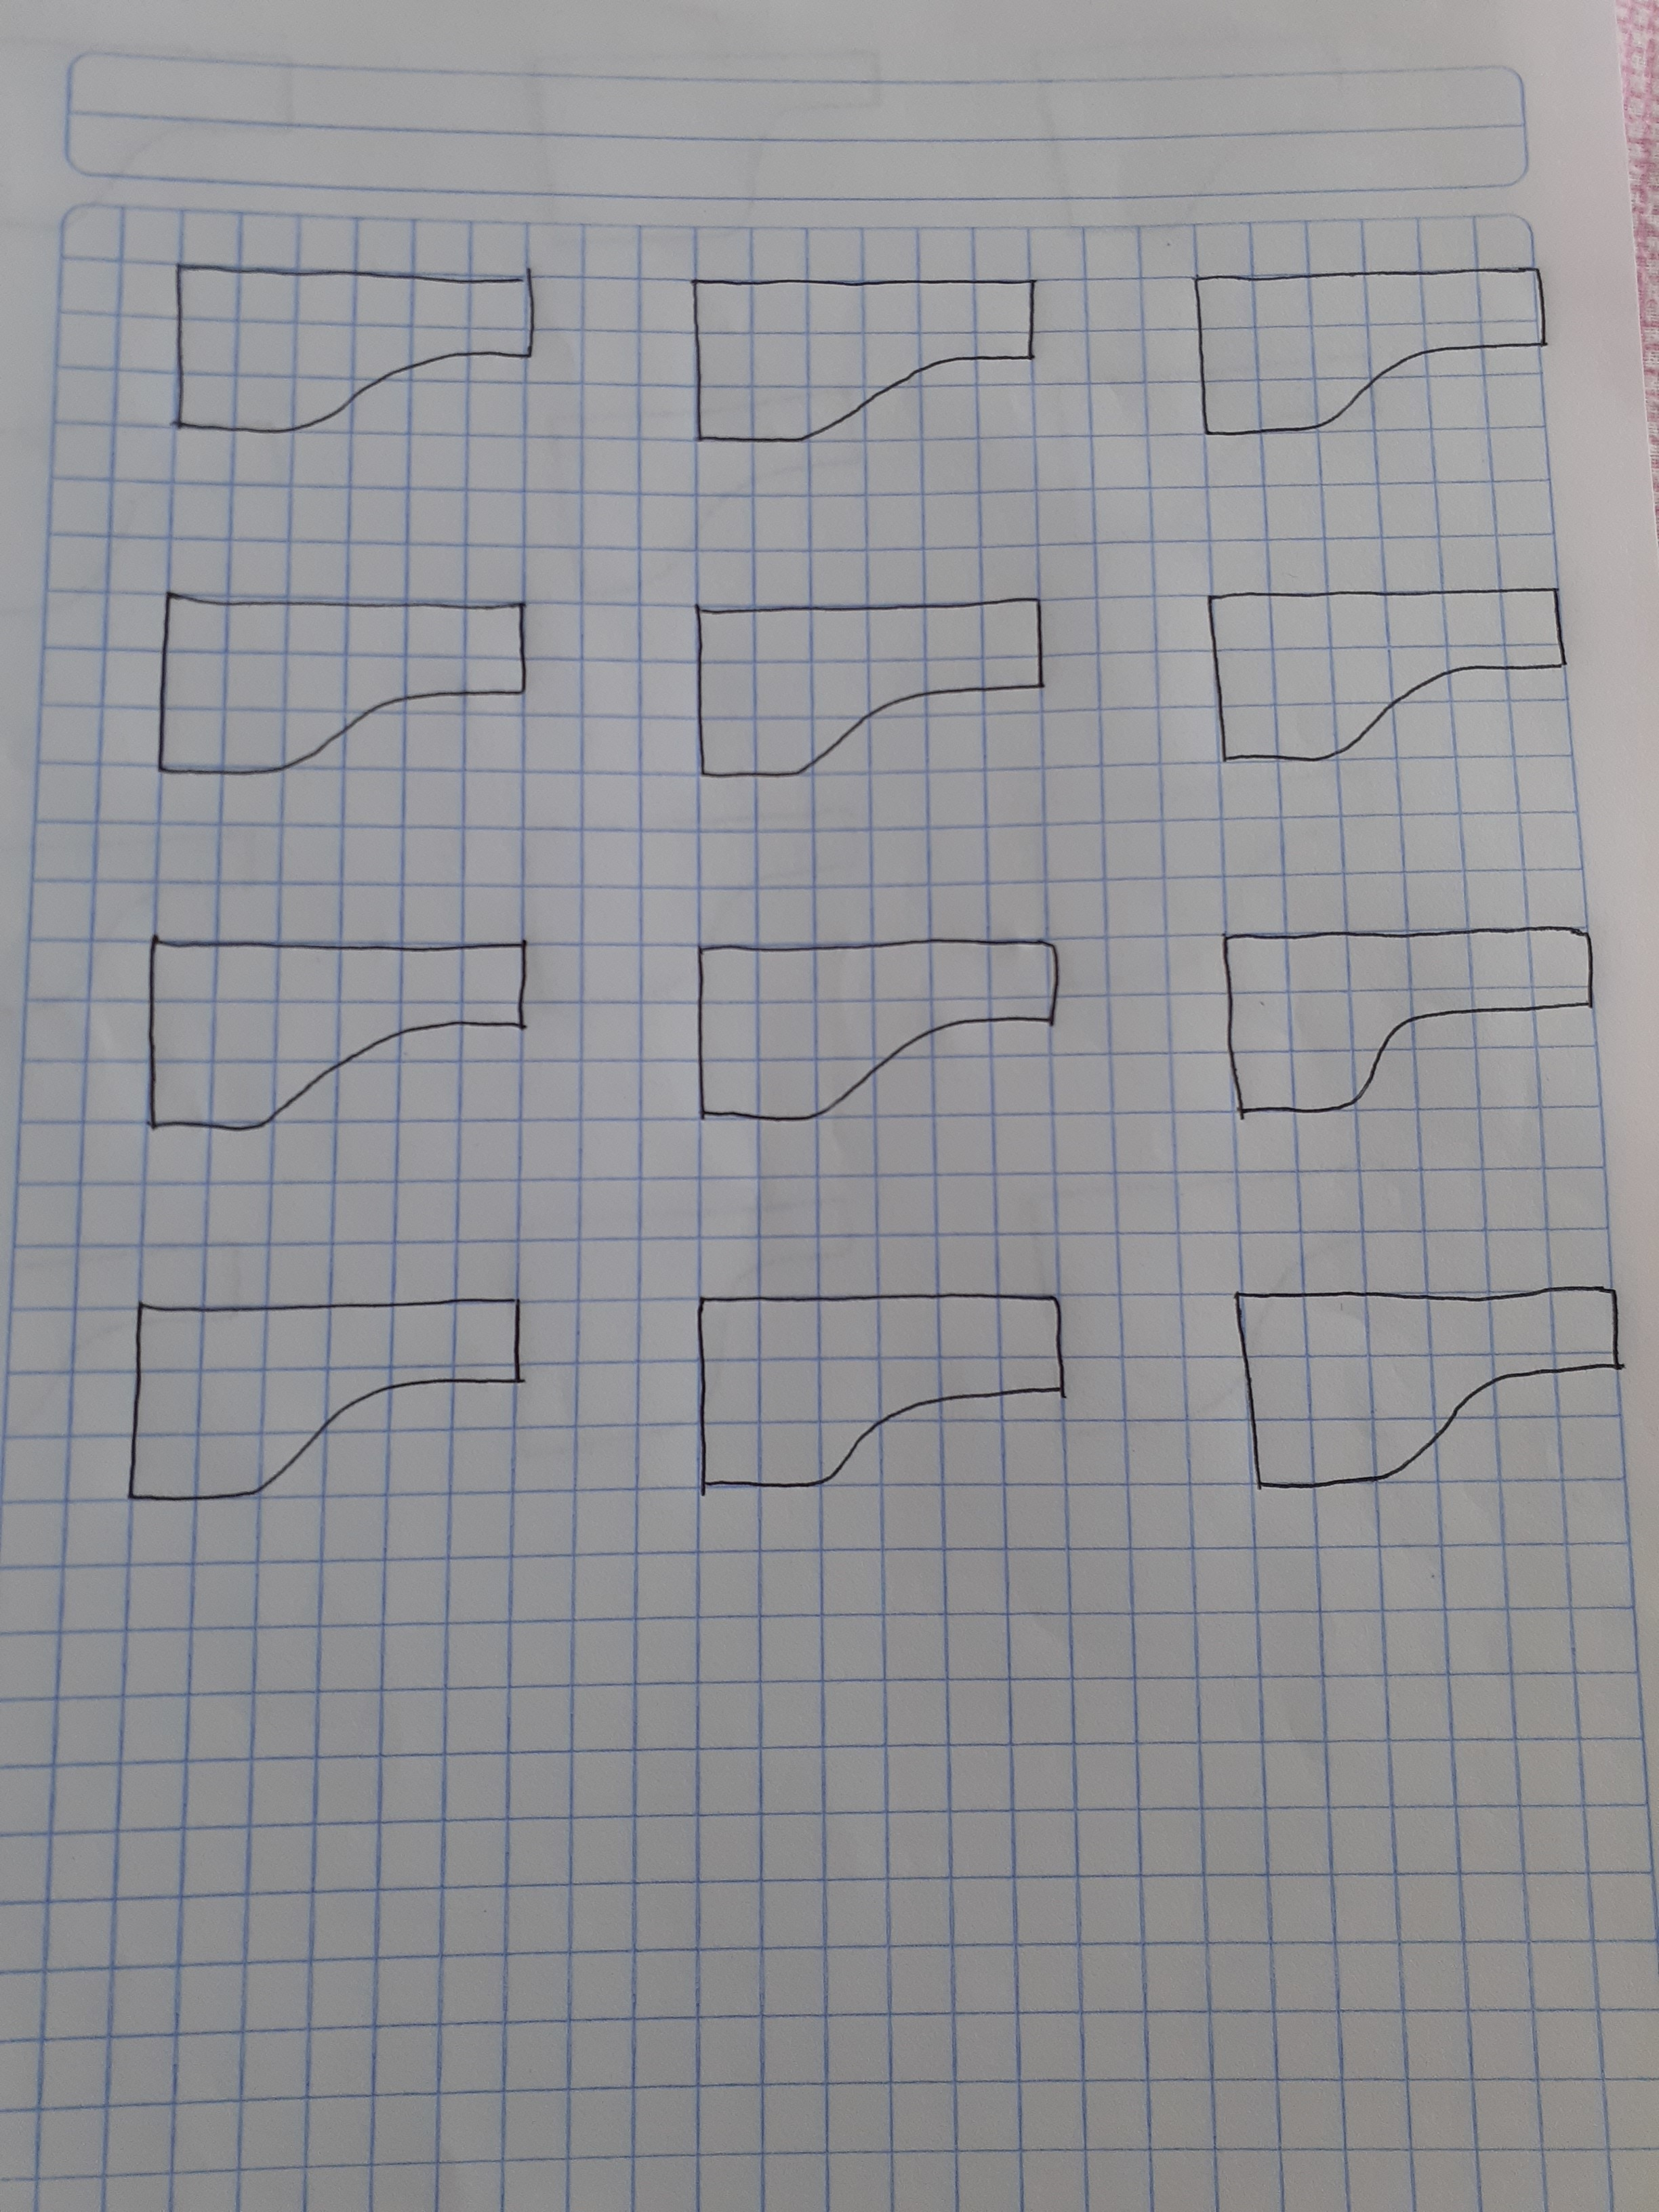print: (89, 1261, 544, 1536), (655, 1271, 1101, 1540), (143, 899, 544, 1170), (1211, 1271, 1638, 1510), (157, 232, 566, 472), (674, 547, 1058, 801), (1208, 895, 1607, 1134), (667, 923, 1105, 1137), (1190, 561, 1589, 791), (150, 561, 545, 787), (674, 242, 1058, 453), (1180, 263, 1563, 449)
